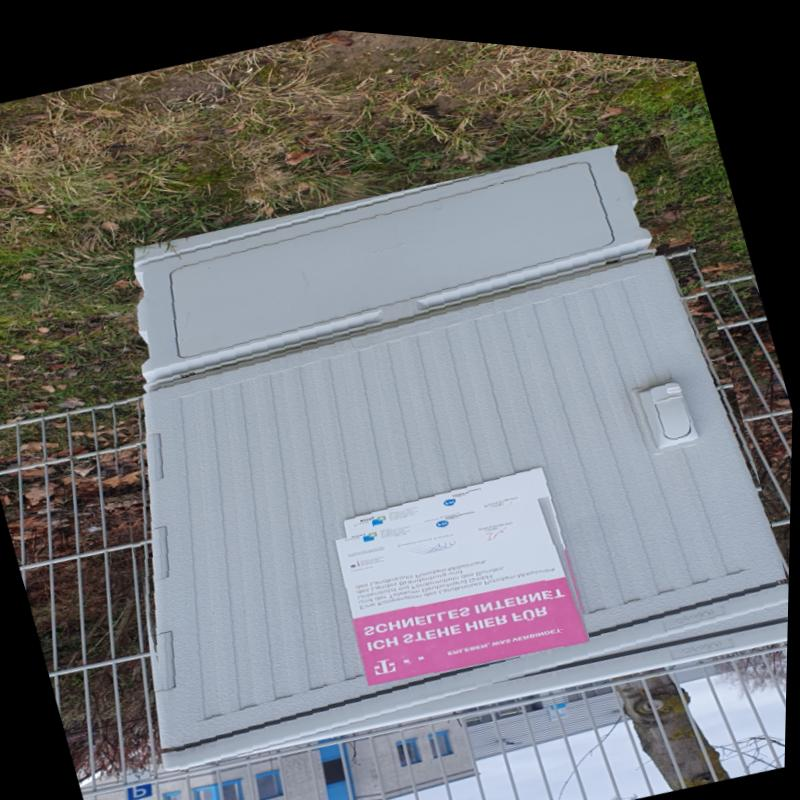NT-Gehause: (123, 132, 791, 766)
Steaker: (329, 468, 596, 697)
